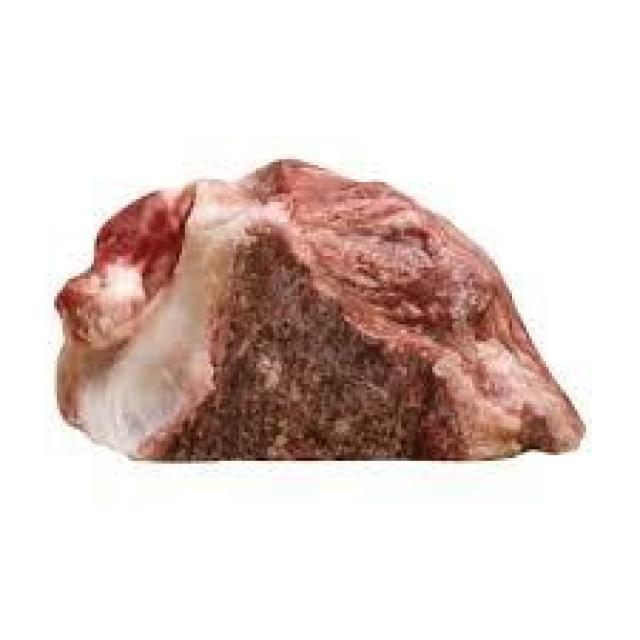Wet Waste: (24, 130, 603, 521)
